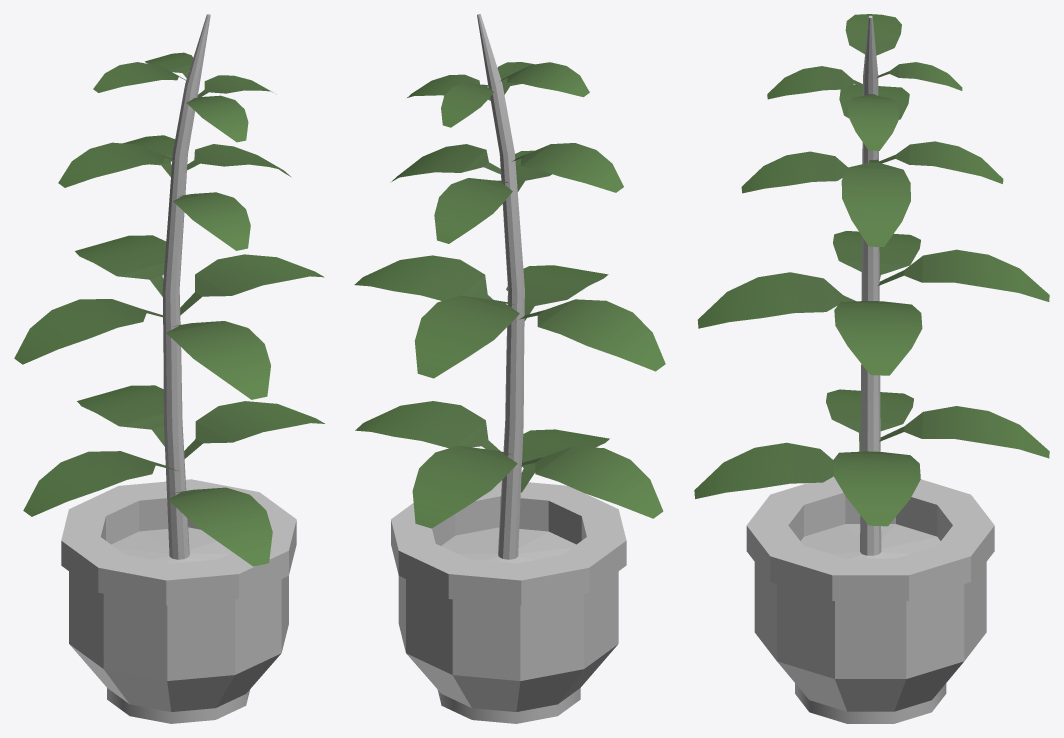
Rendered from Plant.fbx.
3 renders of one model, left to right at view 1: azimuth 30°, elevation 25°; view 2: azimuth 150°, elevation 25°; view 3: azimuth 270°, elevation 25°, orthographic. The views are drawn at different scales.
Parts seen in each view (by area): view 1: pCylinder3, pPlane19, pPlane22, pPlane4, pPlane23, pPlane24, pPlane20, pPlane25, pPlane21, pPlane26, pPlane29, pPlane32 (+5 smaller); view 2: pCylinder3, pPlane21, pPlane25, pPlane23, pPlane4, pPlane20, pPlane24, pPlane28, pPlane29, pPlane22, pPlane19, pPlane27 (+4 smaller); view 3: pCylinder3, pPlane20, pPlane24, pPlane22, pPlane19, pPlane27, pPlane25, pPlane21, pPlane26, pPlane4, pPlane28, pPlane23 (+5 smaller).
Boxes of the visible parts, x1,y1,x2,y2 form: pCylinder3: (61, 14, 296, 723); pPlane19: (168, 487, 272, 566); pPlane22: (166, 321, 270, 399); pPlane4: (23, 451, 178, 516); pPlane23: (14, 299, 166, 364); pPlane24: (180, 254, 324, 315); pPlane20: (184, 401, 324, 458); pPlane25: (75, 235, 166, 296); pPlane21: (77, 385, 164, 446); pPlane26: (173, 192, 250, 250); pPlane29: (58, 142, 174, 187); pPlane32: (186, 95, 248, 142); pCylinder3: (391, 14, 626, 723); pPlane21: (412, 445, 517, 528); pPlane25: (414, 295, 519, 378); pPlane23: (519, 299, 665, 371); pPlane4: (521, 446, 663, 518); pPlane20: (355, 401, 500, 451); pPlane24: (354, 255, 493, 300); pPlane28: (434, 178, 512, 243); pPlane29: (512, 143, 623, 192); pPlane22: (506, 265, 608, 320); pPlane19: (520, 429, 609, 492); pPlane27: (390, 144, 501, 182); pCylinder3: (746, 15, 994, 723); pPlane20: (832, 451, 920, 526); pPlane24: (834, 300, 922, 375); pPlane22: (697, 272, 855, 328); pPlane19: (694, 442, 833, 498); pPlane27: (841, 159, 910, 246); pPlane25: (878, 249, 1049, 301); pPlane21: (879, 406, 1049, 458); pPlane26: (741, 151, 847, 193); pPlane4: (826, 389, 913, 451); pPlane28: (879, 141, 1003, 183); pPlane23: (833, 231, 920, 279).
Bounding box in the file's own units: 4.75 × 10.07 × 4.69.
